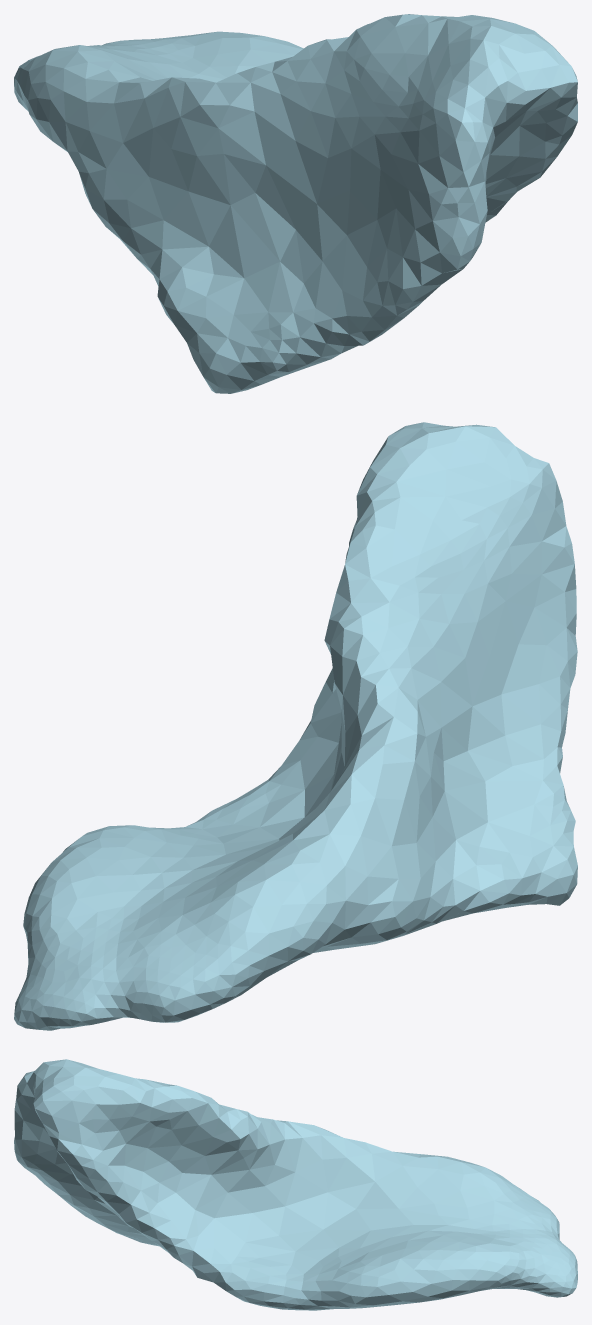
Rendered from leftsurrenalgland.obj.
The picture shows the model from 3 angles, top to bottom: view 1: azimuth 30°, elevation 25°; view 2: azimuth 150°, elevation 25°; view 3: azimuth 270°, elevation 25°; orthographic projection. The views are drawn at different scales.
Parts seen in each view (by area): view 1: grp1; view 2: grp1; view 3: grp1.
Part boxes in pixels (x1=…): grp1: x1=14, y1=14, x2=577, y2=393; grp1: x1=14, y1=422, x2=577, y2=1030; grp1: x1=14, y1=1059, x2=577, y2=1310.
Size of the model in its own units: 21.88 by 22.7 by 47.85.
